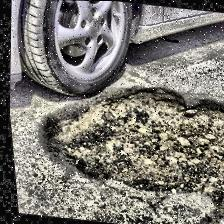pothole: (27, 70, 224, 204)
